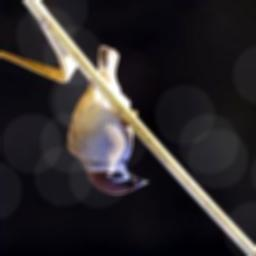Sparrow: (64, 44, 150, 196)
